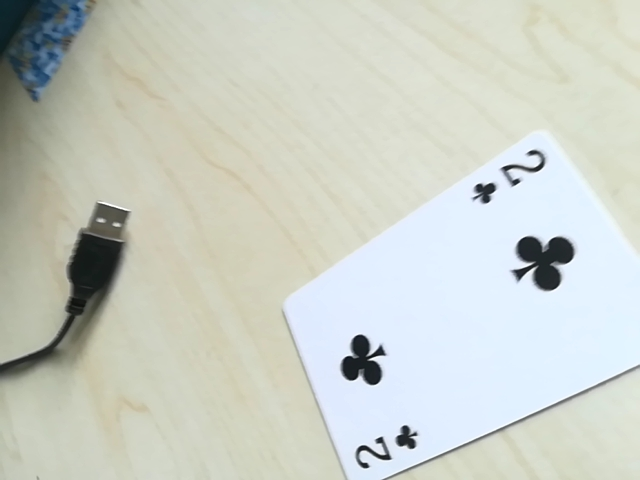mh 2: (463, 141, 554, 210), (343, 428, 418, 479)
